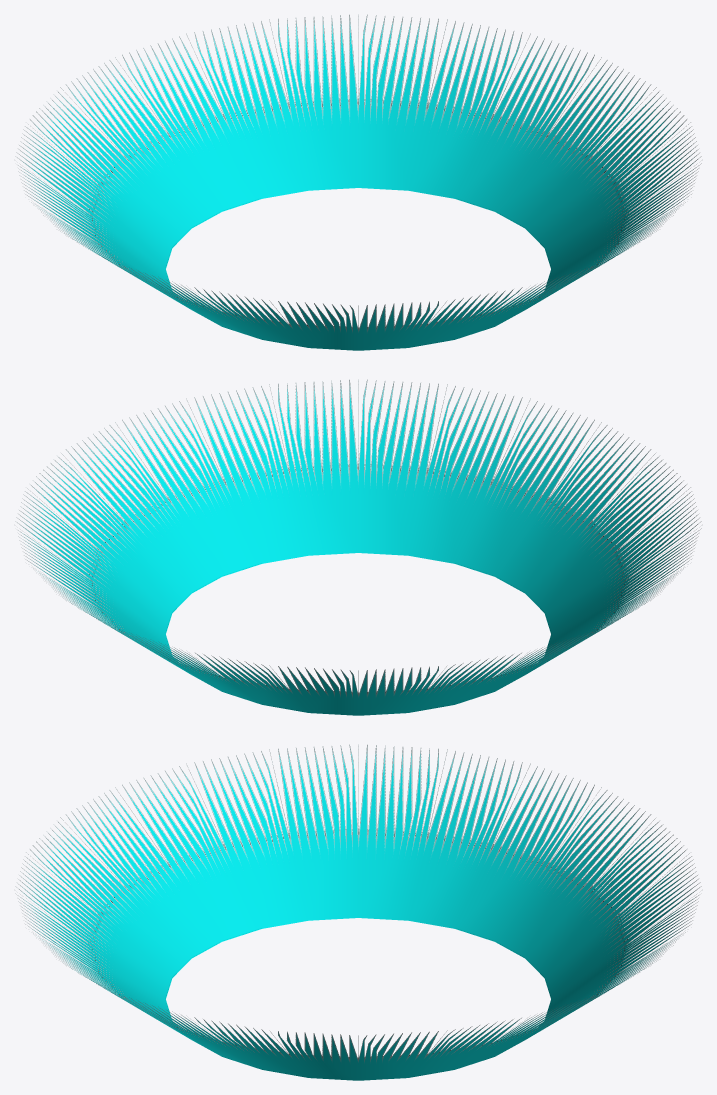
File: Flames.fbx
The picture shows the model from 3 angles, top to bottom: view 1: azimuth 30°, elevation 25°; view 2: azimuth 150°, elevation 25°; view 3: azimuth 270°, elevation 25°; orthographic projection.
Parts seen in each view (by area): view 1: Flames; view 2: Flames; view 3: Flames.
Boxes of the visible parts, x1=… form: Flames: x1=15, y1=14, x2=701, y2=350; Flames: x1=15, y1=379, x2=701, y2=715; Flames: x1=15, y1=744, x2=701, y2=1080.
Size of the model in its own units: 1.94 by 0.3413 by 1.94.
Materials: 1 (1 with a texture image).
